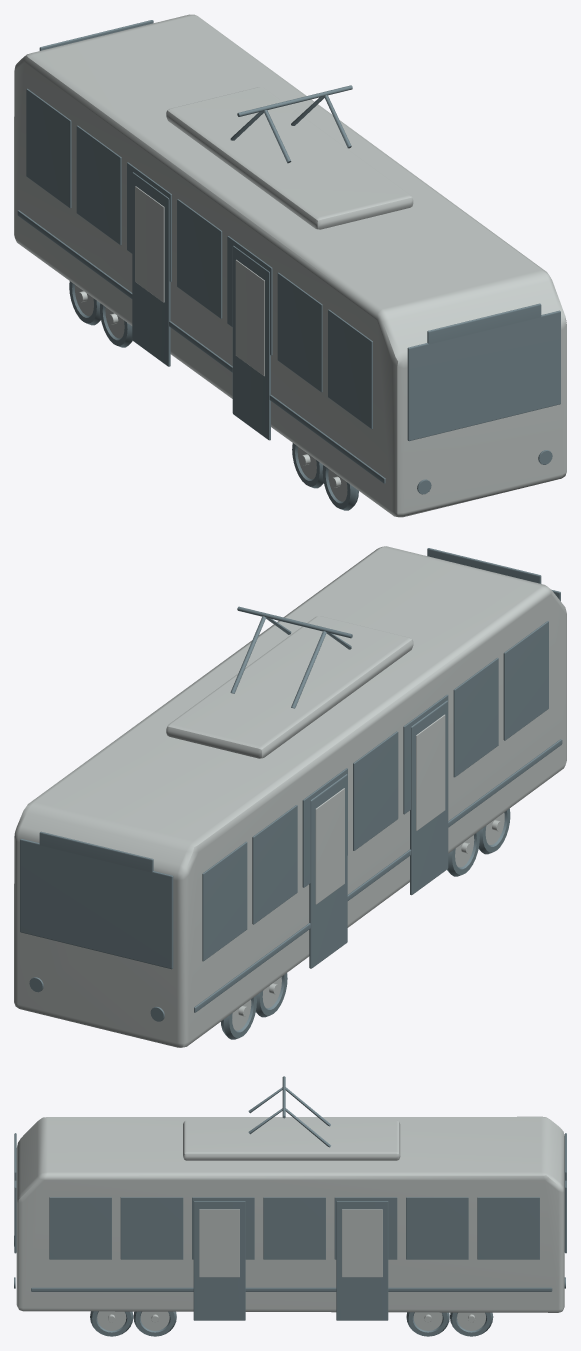
The model's file is tram.glb.
3 renders of one model, top to bottom at view 1: azimuth 30°, elevation 25°; view 2: azimuth 150°, elevation 25°; view 3: azimuth 270°, elevation 25°, orthographic. The views are drawn at different scales.
Visible parts, largest first — view 1: tram_body, roof_unit, cab_glass.001, side_glass.005, side_glass, side_glass.001, side_glass.003, side_glass.006, sliding_door.001, sliding_door, door_glass.001, door_glass (+4 smaller); view 2: tram_body, roof_unit, cab_glass, side_glass, side_glass.006, side_glass.001, side_glass.003, side_glass.005, sliding_door.001, sliding_door, door_glass, door_glass.001 (+5 smaller); view 3: tram_body, roof_unit, side_glass.012, side_glass.007, side_glass.008, side_glass.010, side_glass.013, sliding_door.003, sliding_door.002, door_glass.002, door_glass.003, lower_trim.001 (+10 smaller).
Boxes of the visible parts, bbox=[...] form: tram_body: bbox=[14, 14, 566, 517]; roof_unit: bbox=[166, 87, 413, 229]; cab_glass.001: bbox=[407, 310, 560, 441]; side_glass.005: bbox=[277, 272, 322, 392]; side_glass: bbox=[26, 88, 71, 208]; side_glass.001: bbox=[76, 125, 121, 245]; side_glass.003: bbox=[177, 199, 222, 318]; side_glass.006: bbox=[328, 309, 372, 429]; sliding_door.001: bbox=[232, 245, 270, 440]; sliding_door: bbox=[132, 172, 170, 366]; door_glass.001: bbox=[235, 259, 264, 376]; door_glass: bbox=[135, 186, 164, 302]; tram_body: bbox=[14, 546, 566, 1047]; roof_unit: bbox=[166, 616, 413, 758]; cab_glass: bbox=[20, 838, 173, 969]; side_glass: bbox=[202, 841, 247, 961]; side_glass.006: bbox=[503, 621, 548, 740]; side_glass.001: bbox=[252, 805, 297, 924]; side_glass.003: bbox=[353, 731, 398, 850]; side_glass.005: bbox=[453, 657, 498, 777]; sliding_door.001: bbox=[410, 700, 448, 895]; sliding_door: bbox=[309, 774, 347, 968]; door_glass: bbox=[315, 788, 344, 904]; door_glass.001: bbox=[416, 714, 445, 830]; tram_body: bbox=[16, 1116, 564, 1312]; roof_unit: bbox=[183, 1120, 400, 1160]; side_glass.012: bbox=[120, 1197, 183, 1259]; side_glass.007: bbox=[477, 1197, 539, 1259]; side_glass.008: bbox=[406, 1197, 468, 1259]; side_glass.010: bbox=[263, 1197, 325, 1259]; side_glass.013: bbox=[49, 1197, 111, 1259]; sliding_door.003: bbox=[193, 1201, 245, 1320]; sliding_door.002: bbox=[336, 1201, 388, 1320]; door_glass.002: bbox=[342, 1209, 382, 1277]; door_glass.003: bbox=[199, 1209, 239, 1277]; lower_trim.001: bbox=[31, 1287, 552, 1291].
Bounding box in the file's own units: 2.4 × 3.82 × 8.91.
